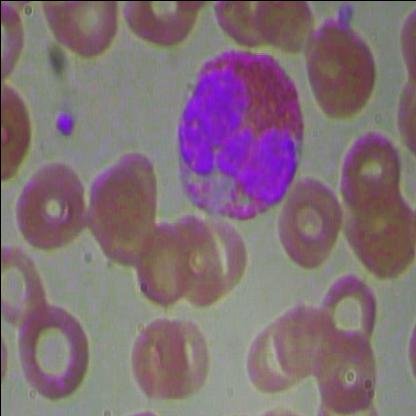Platelets: (53, 102, 75, 140)
RBC: (302, 13, 380, 122), (13, 155, 90, 257), (16, 296, 88, 402), (275, 176, 344, 270), (122, 312, 190, 406), (312, 322, 380, 416), (129, 217, 195, 307), (156, 310, 214, 406), (39, 1, 118, 62), (273, 302, 335, 374), (0, 242, 50, 328)
WBC: (173, 46, 306, 230)
